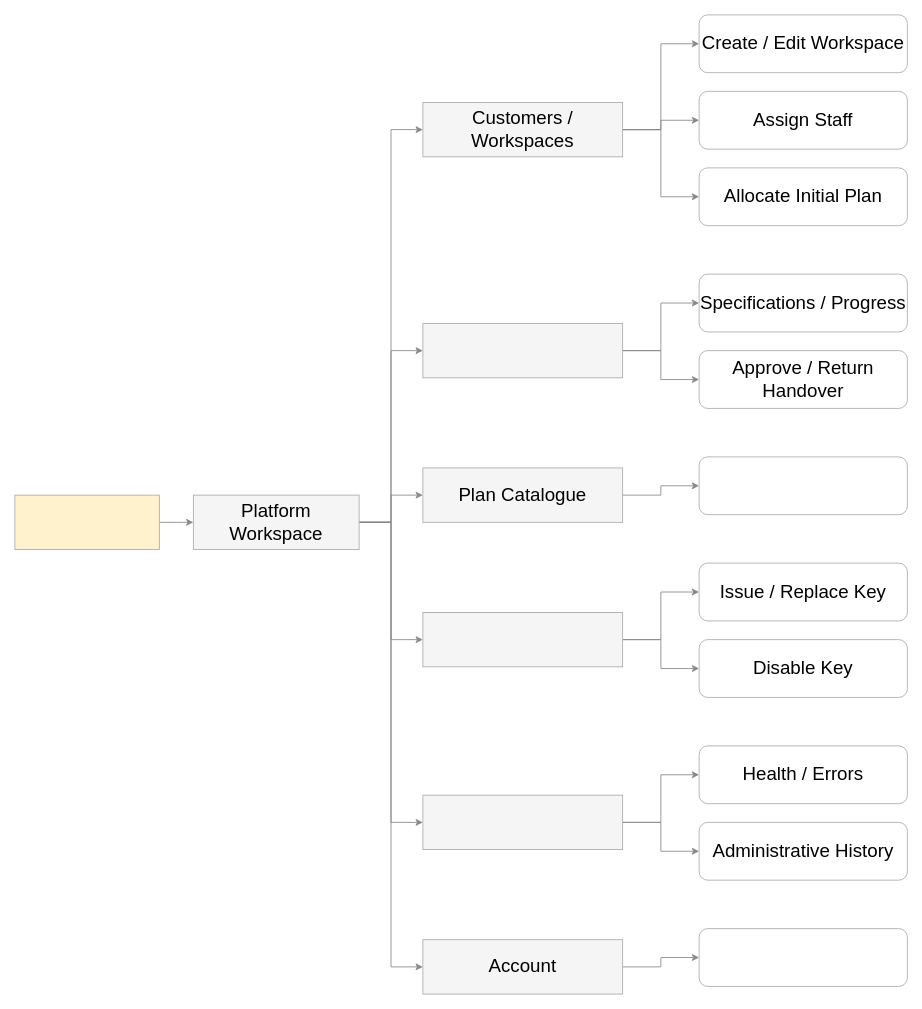
This 922x1009 diagram has some shape labels left out. Each missing label, with the box of its shape:
Change Password / Log Out: (698, 928, 907, 986)
Integration Keys: (422, 612, 623, 667)
Maintain / Retire Offer: (698, 456, 907, 515)
Onboarding Review: (422, 323, 623, 378)
Platform Login: (14, 494, 159, 550)
Platform Monitoring: (422, 794, 623, 850)
